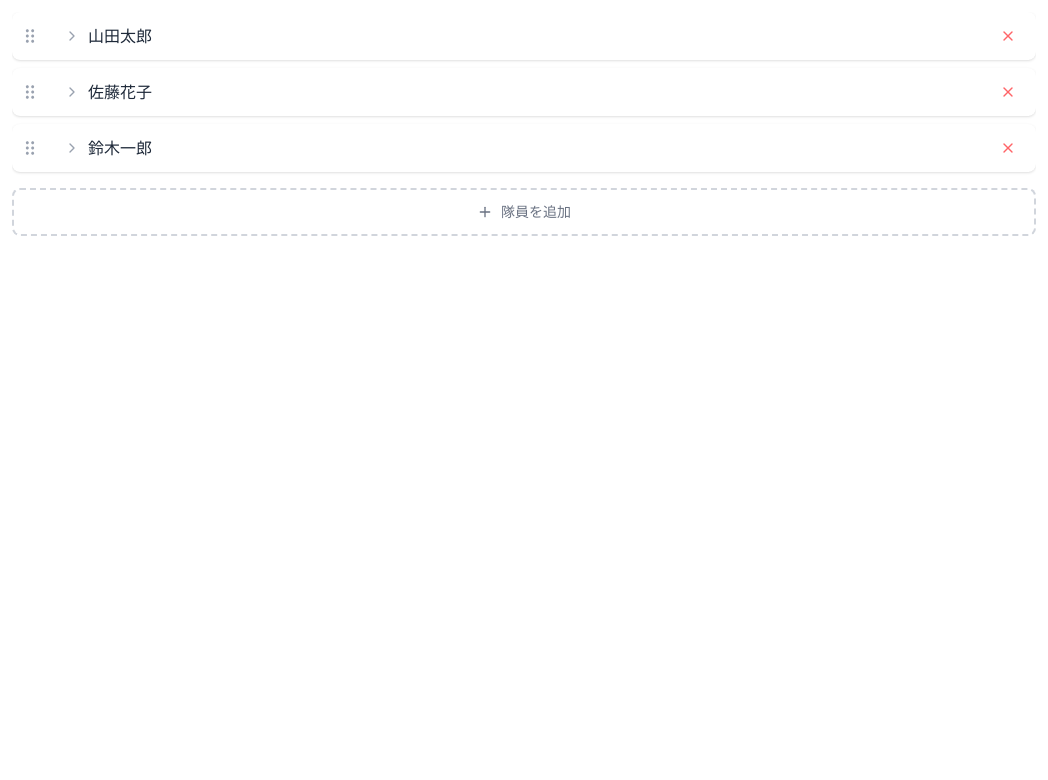
Test: MembersTab › 編集モード: 行をクリックして展開 → 編集ボタンで編集フォームが表示される
The image size is (1048, 780).
Check: the text "山田太郎" is shown, box 88,24 -> 152,48
Click the button "山田太郎" at (120, 36), box 48,12 -> 1036,60
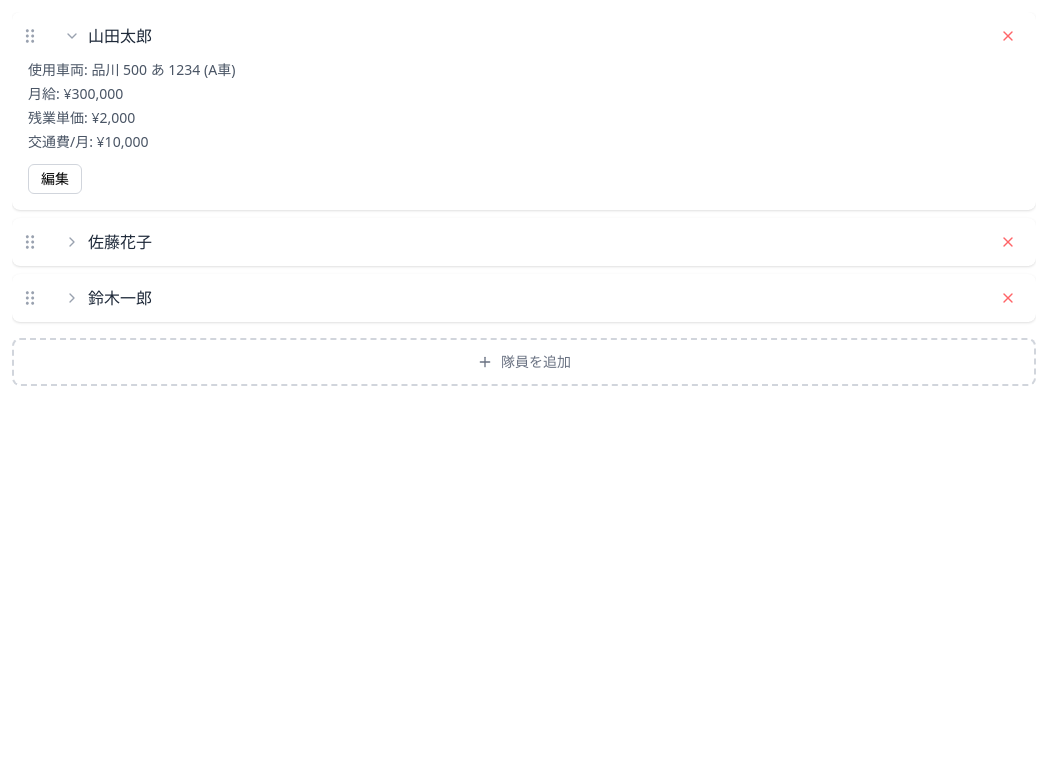
Check: the button "編集" is shown
Click the button "編集" at (55, 179), box 28,164 -> 82,194
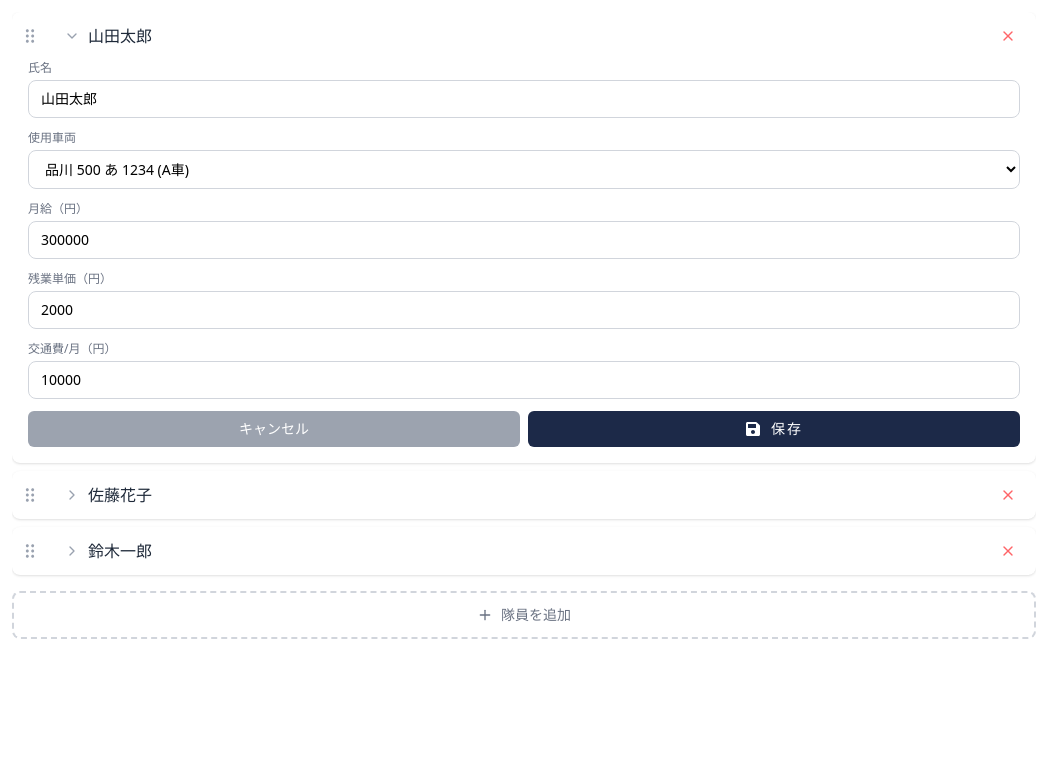
Check: the field showing "山田太郎" is shown, box 28,80 -> 1020,118
